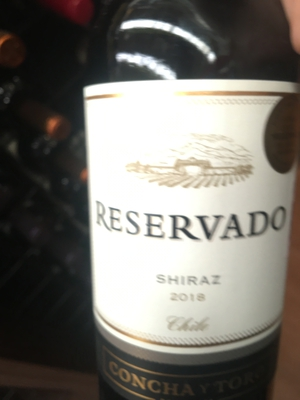reservado shiraz: (97, 18, 299, 400)
